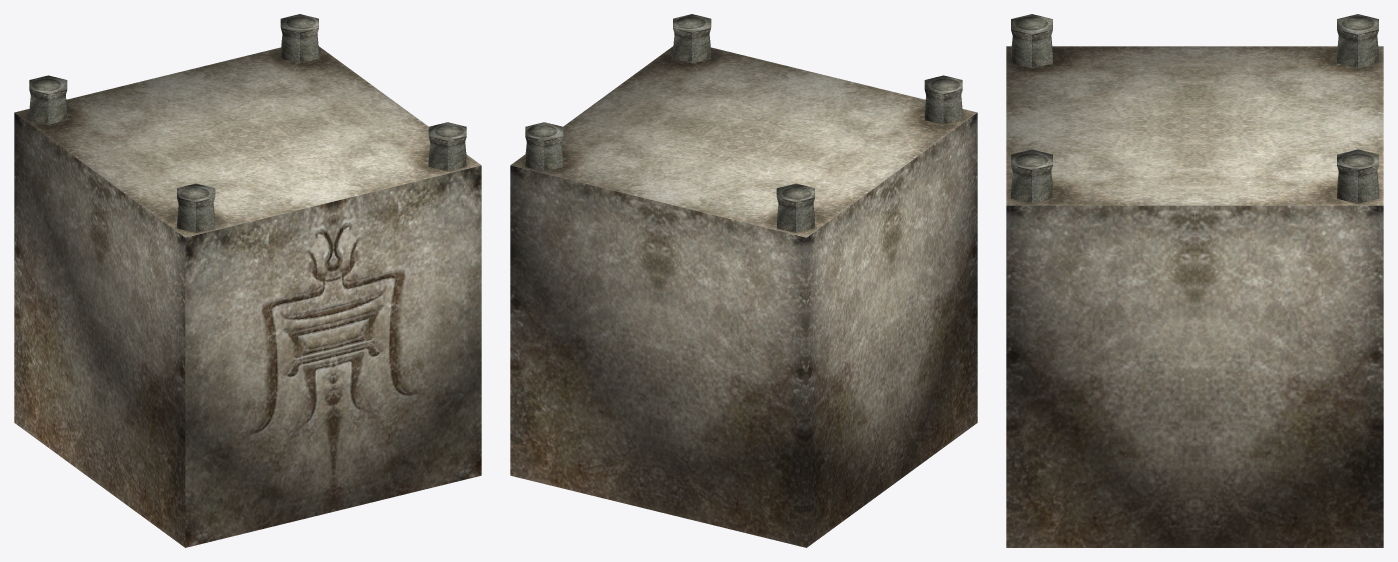
Rendered from landmark_grandstone01.fbx.
3 renders of one model, left to right at view 1: azimuth 30°, elevation 25°; view 2: azimuth 150°, elevation 25°; view 3: azimuth 270°, elevation 25°, orthographic. The views are drawn at different scales.
Visible parts, largest first — view 1: Object01; view 2: Object01; view 3: Object01.
Part boxes in pixels (<box>): Object01: <box>14,14,481,547</box>; Object01: <box>510,14,977,547</box>; Object01: <box>1006,14,1383,547</box>.
Bounding box in the file's own units: 4.64 × 5.1 × 4.64.
